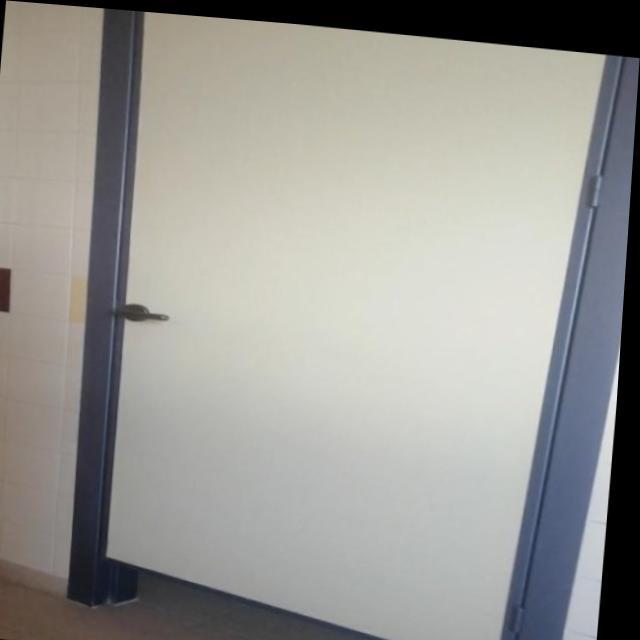door_handle: (115, 302, 175, 320)
